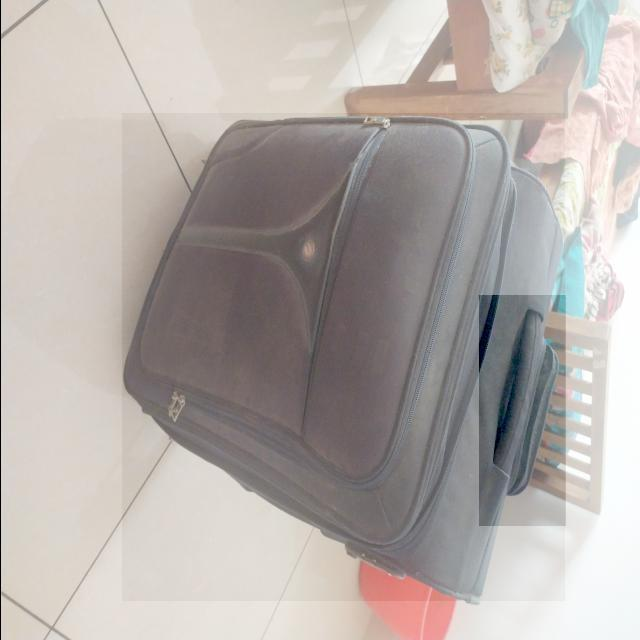Suitcase: (124, 113, 566, 603)
